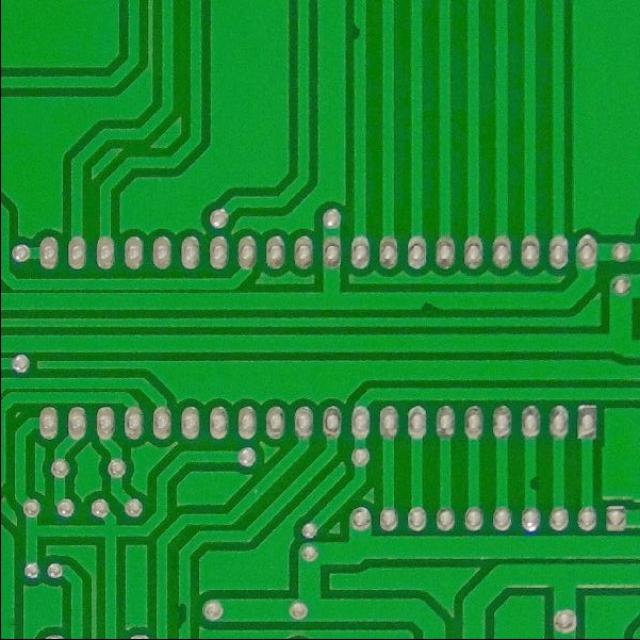MouseBite: (409, 294, 450, 314), (174, 598, 192, 632), (348, 17, 368, 47), (521, 471, 541, 496)
